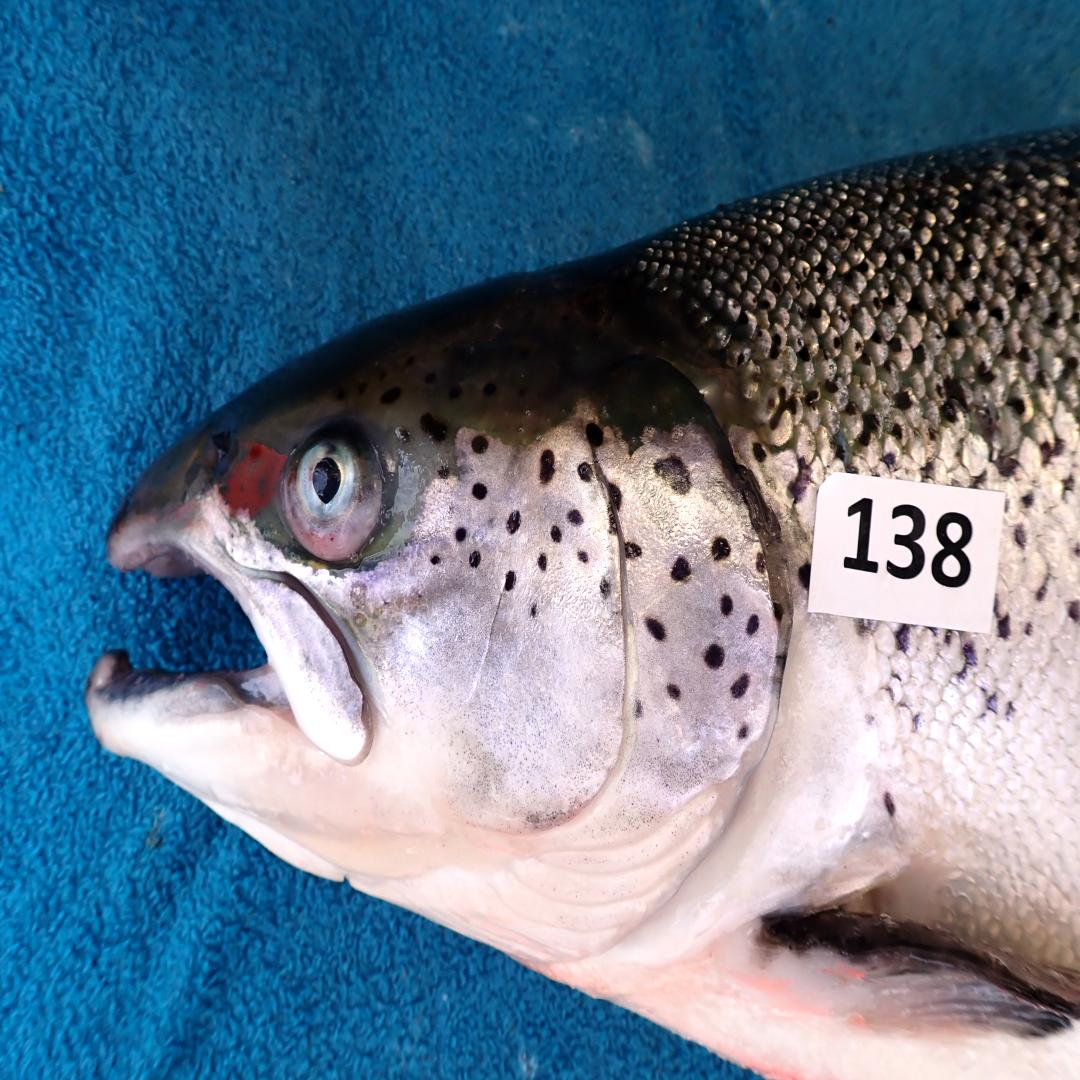roi: (371, 400, 786, 970)
